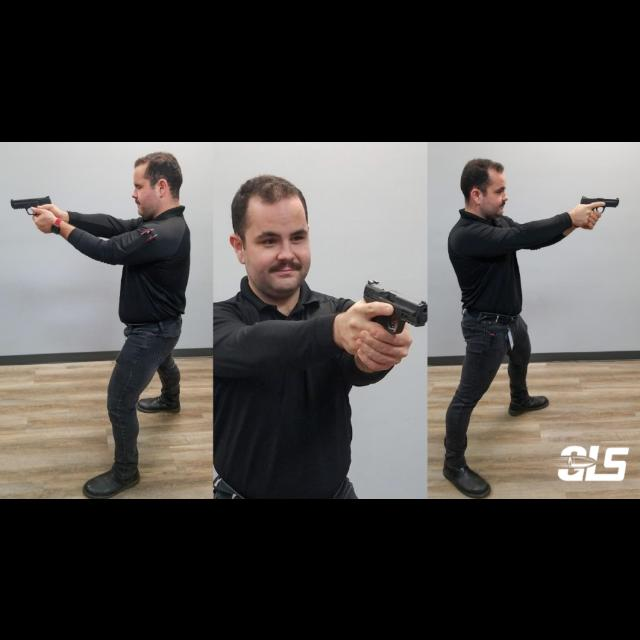handgun: (361, 276, 429, 334), (10, 192, 52, 215), (579, 192, 621, 214)
